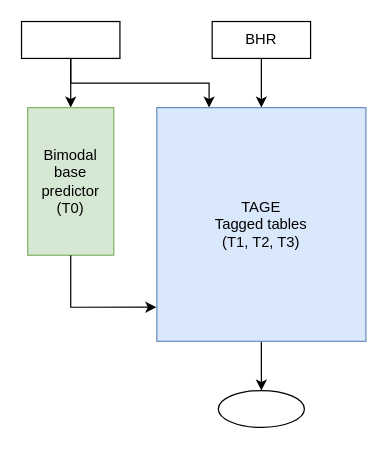
Image size: 387x449. Some labels were removed from this diagram. Each missing label, with the box of its shape:
PC: (20, 20, 120, 58)
prediction: (217, 389, 304, 427)
